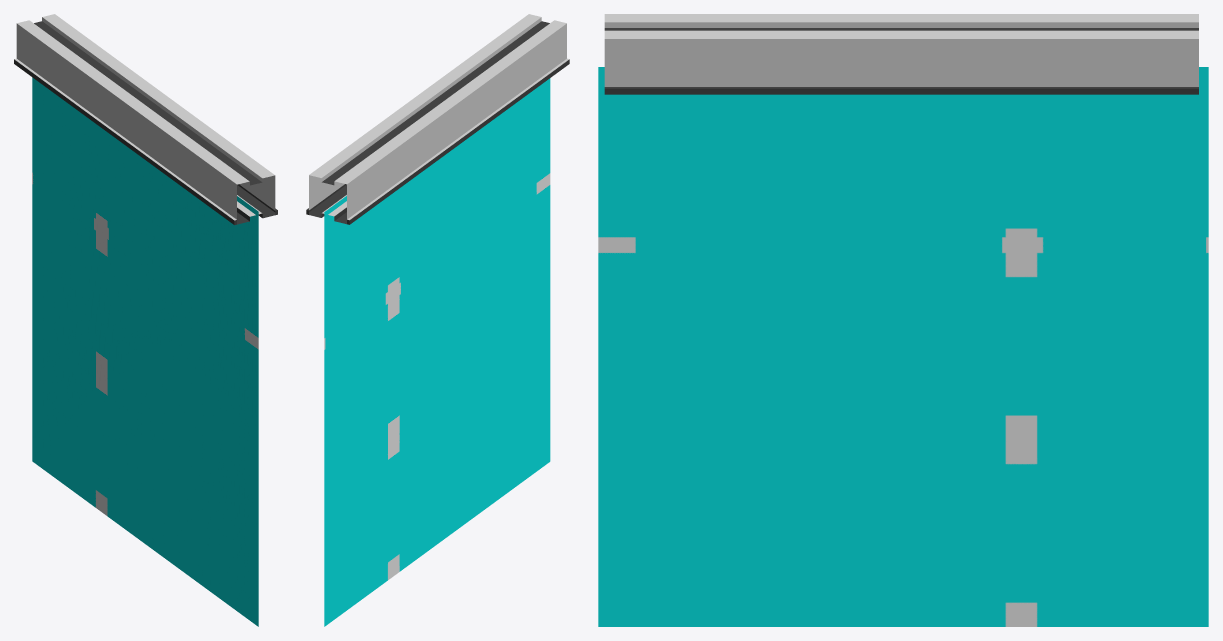
Rendered from ModDiv_Panel_Medium.fbx.
3 views of the same model, side by side, from view 1: azimuth 30°, elevation 25°; view 2: azimuth 150°, elevation 25°; view 3: azimuth 270°, elevation 25° (orthographic). The views are drawn at different scales.
Parts seen in each view (by area): view 1: Mid_holo; view 2: Mid_holo; view 3: Mid_holo.
Part boxes in pixels (x1=…): Mid_holo: x1=14, y1=14, x2=277, y2=626; Mid_holo: x1=306, y1=14, x2=569, y2=626; Mid_holo: x1=598, y1=14, x2=1208, y2=626.
Bounding box in the file's own units: 34.15 × 334 × 308.
Materials: 3 (1 with a texture image).
